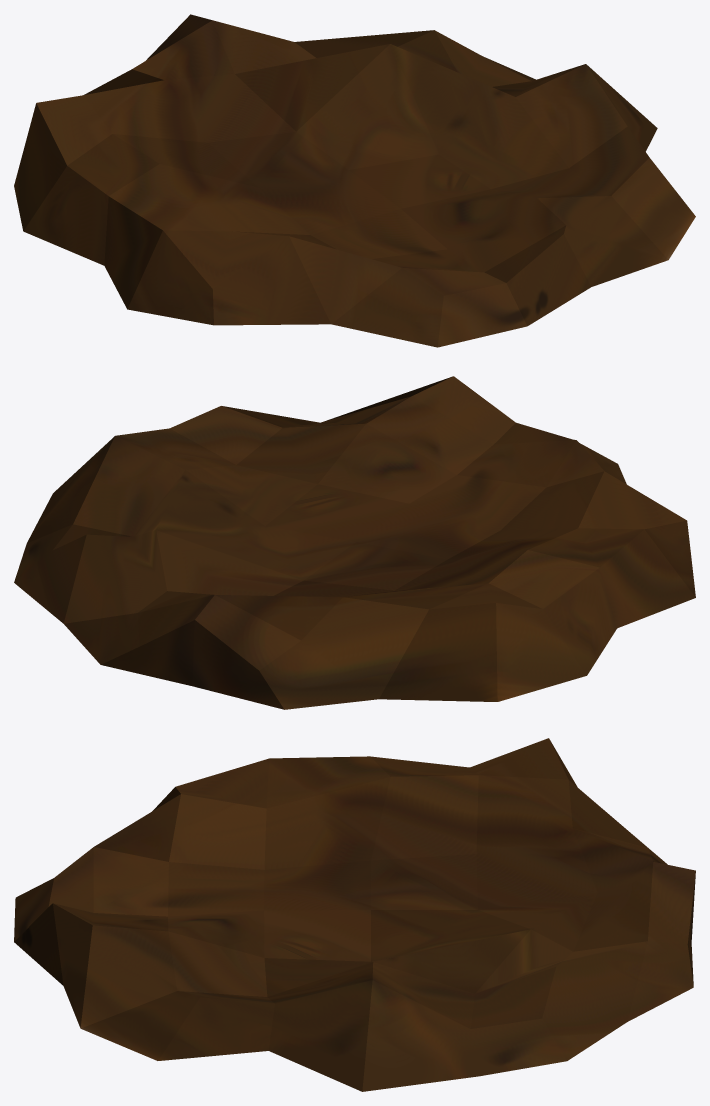
The model's file is TerreSpawn.fbx.
3 renders of one model, top to bottom at view 1: azimuth 30°, elevation 25°; view 2: azimuth 150°, elevation 25°; view 3: azimuth 270°, elevation 25°, orthographic. The views are drawn at different scales.
Parts seen in each view (by area): view 1: Circle; view 2: Circle; view 3: Circle.
Part boxes in pixels (x1,y1,x2,y2): Circle: (14,14,695,347); Circle: (14,376,695,709); Circle: (14,738,695,1091).
Bounding box in the file's own units: 186 × 26.78 × 185.
Materials: 1 (1 with a texture image).
